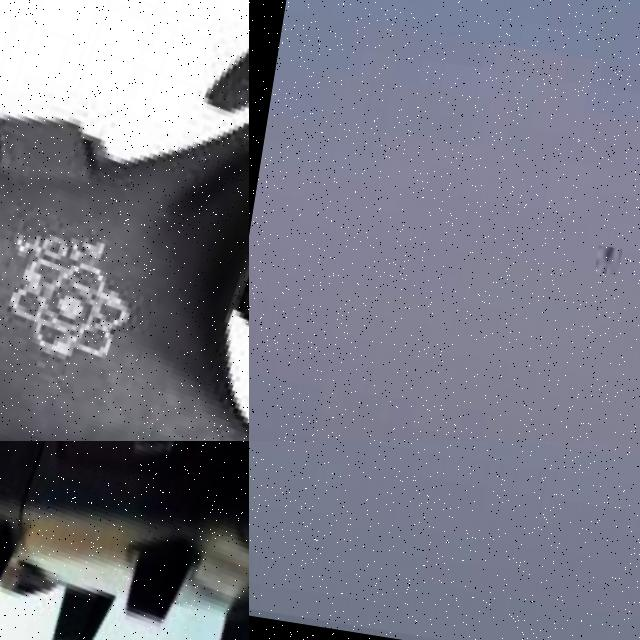drone: (0, 0, 249, 441), (0, 441, 249, 640)
